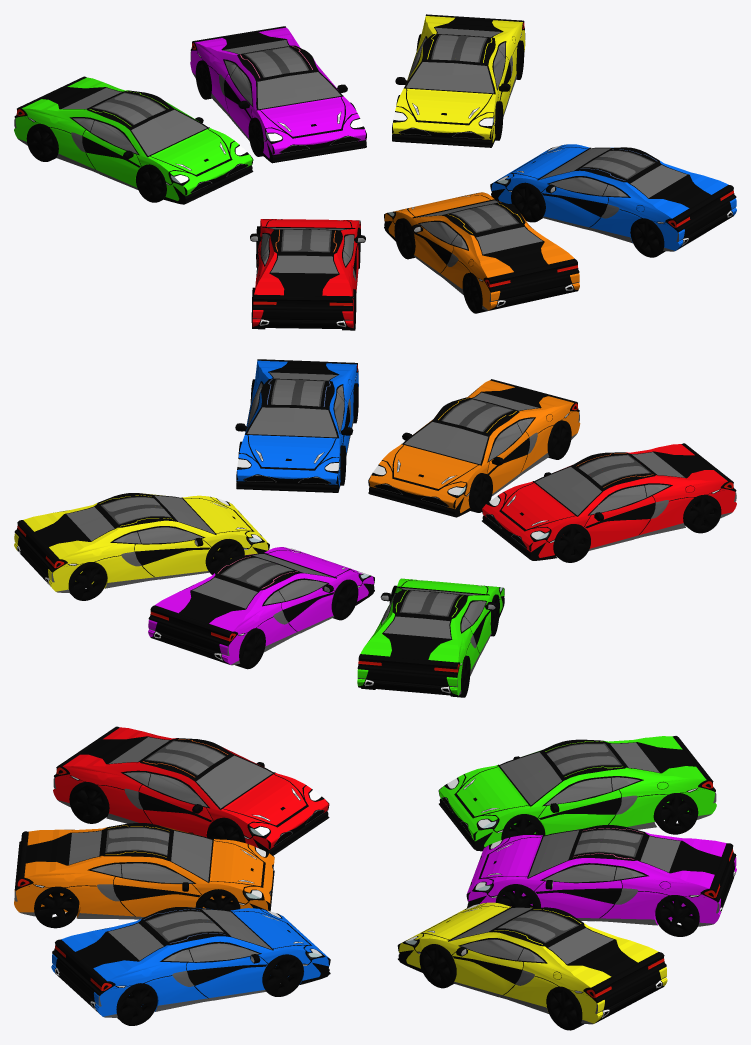
File: McLarens - Copy.fbx
3 renders of one model, top to bottom at view 1: azimuth 30°, elevation 25°; view 2: azimuth 150°, elevation 25°; view 3: azimuth 270°, elevation 25°, orthographic. The views are drawn at different scales.
Visible parts, largest first — view 1: Cube.012, Cube.005, Cube.017, Cube.011, Cube, Cube.006, Cylinder.006, Cylinder.007, Cylinder.018, Cylinder.019, Cylinder, Cylinder.001 (+1 smaller); view 2: Cube.006, Cube.011, Cube, Cube.017, Cube.005, Cube.012, Cylinder.013, Cylinder.008, Cylinder.009, Cylinder.021, Cylinder.020, Cylinder.012 (+2 smaller); view 3: Cube.006, Cube.012, Cube.005, Cube.017, Cube, Cube.011, Cylinder.002, Cylinder.022, Cylinder.017, Cylinder.004, Cylinder.005, Cylinder.010 (+6 smaller).
Part boxes in pixels (x1,y1,x2,y2): Cube.012: (14, 76, 253, 204); Cube.005: (490, 144, 736, 251); Cube.017: (190, 26, 366, 163); Cube.011: (392, 14, 525, 147); Cube: (384, 192, 579, 310); Cube.006: (252, 219, 360, 329); Cylinder.006: (630, 218, 665, 257); Cylinder.007: (511, 182, 545, 222); Cylinder.018: (26, 124, 58, 161); Cylinder.019: (136, 164, 166, 202); Cylinder: (394, 218, 415, 259); Cylinder.001: (462, 272, 487, 313); Cube.006: (481, 443, 736, 560); Cube.011: (14, 493, 269, 592); Cube: (368, 379, 580, 517); Cube.017: (148, 547, 374, 665); Cube.005: (236, 359, 358, 492); Cube.012: (357, 578, 504, 696); Cylinder.013: (68, 562, 107, 600); Cylinder.008: (553, 524, 590, 562); Cylinder.009: (683, 494, 721, 533); Cylinder.021: (235, 628, 265, 669); Cylinder.020: (331, 579, 358, 620); Cylinder.012: (205, 539, 244, 574); Cube.006: (53, 726, 329, 855); Cube.012: (438, 736, 716, 851); Cube.005: (51, 907, 330, 1017); Cube.017: (466, 825, 736, 926); Cube: (14, 823, 274, 919); Cube.011: (397, 902, 667, 1024); Cylinder.002: (34, 886, 79, 928); Cylinder.022: (655, 895, 699, 936); Cylinder.017: (653, 793, 698, 834); Cylinder.004: (262, 954, 303, 996); Cylinder.005: (116, 983, 157, 1025); Cylinder.010: (69, 782, 109, 823).
Size of the model in its own units: 2176 by 254 by 2497.
